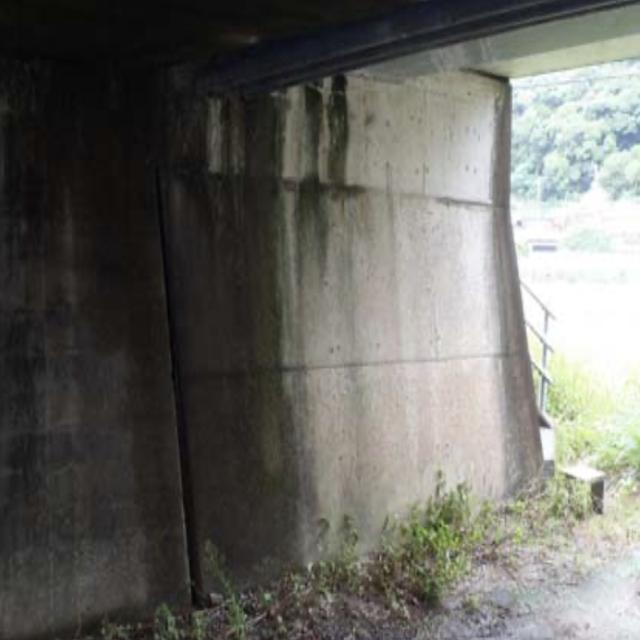leakage: (184, 82, 363, 257)
